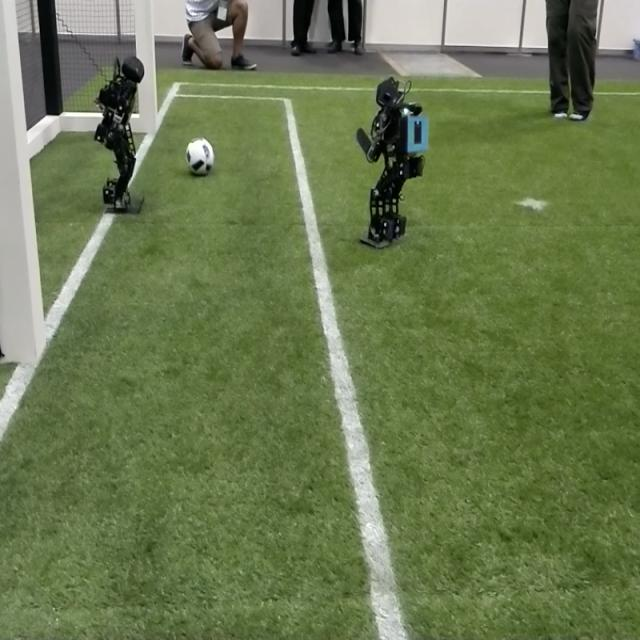ball: (186, 138, 213, 178)
goalpost: (132, 0, 162, 137)
